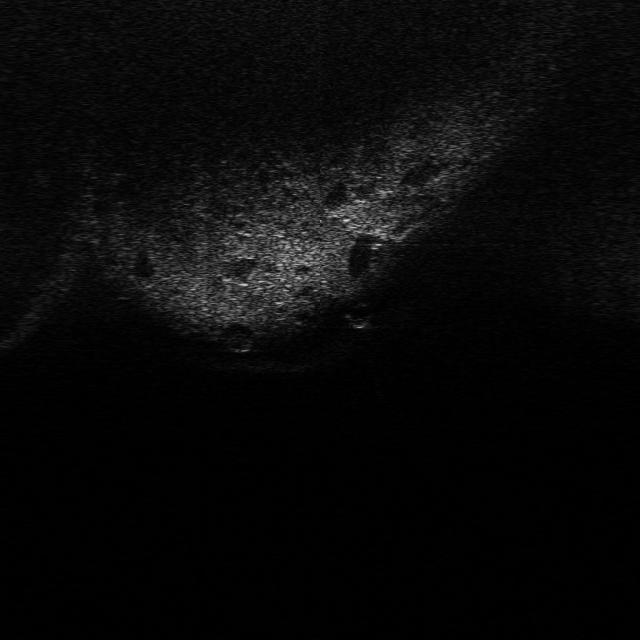ball: (340, 298, 380, 332)
